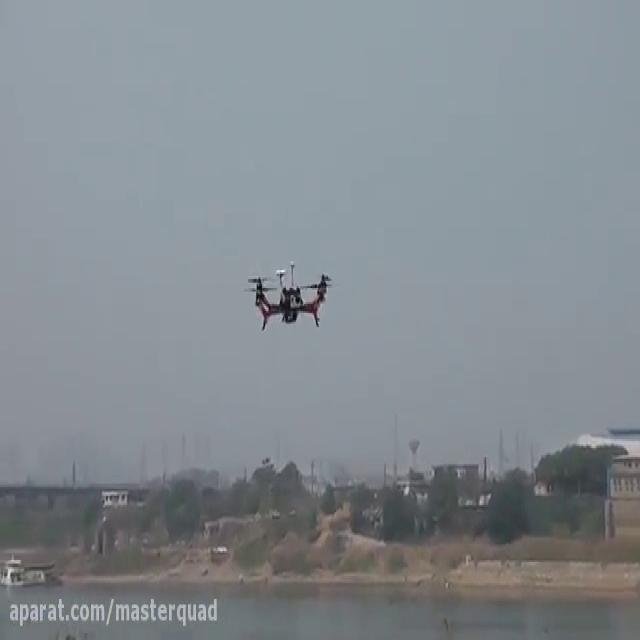drone: (240, 252, 338, 334)
